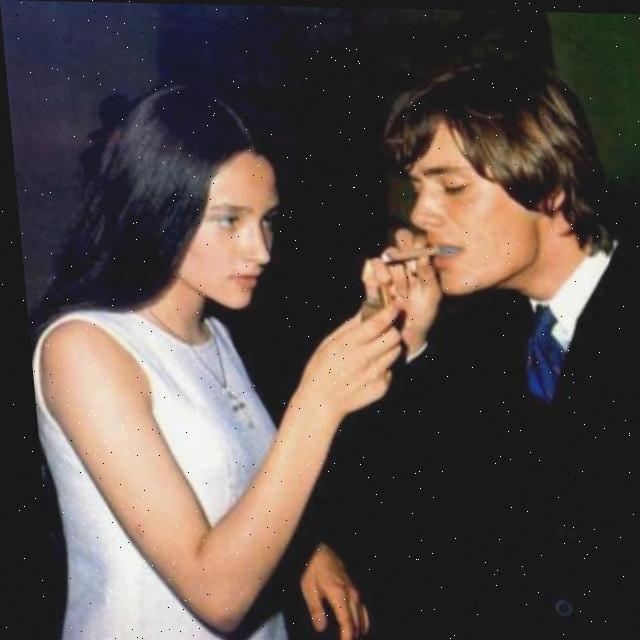cigarette: (371, 239, 439, 264)
